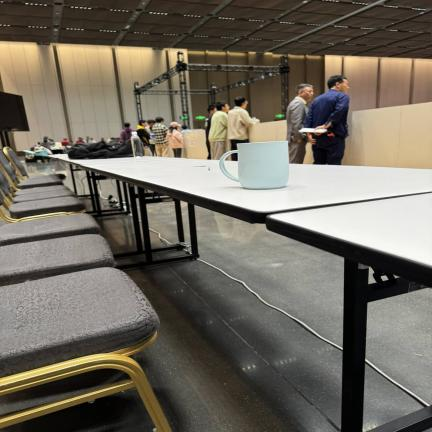cup: (220, 142, 289, 189)
